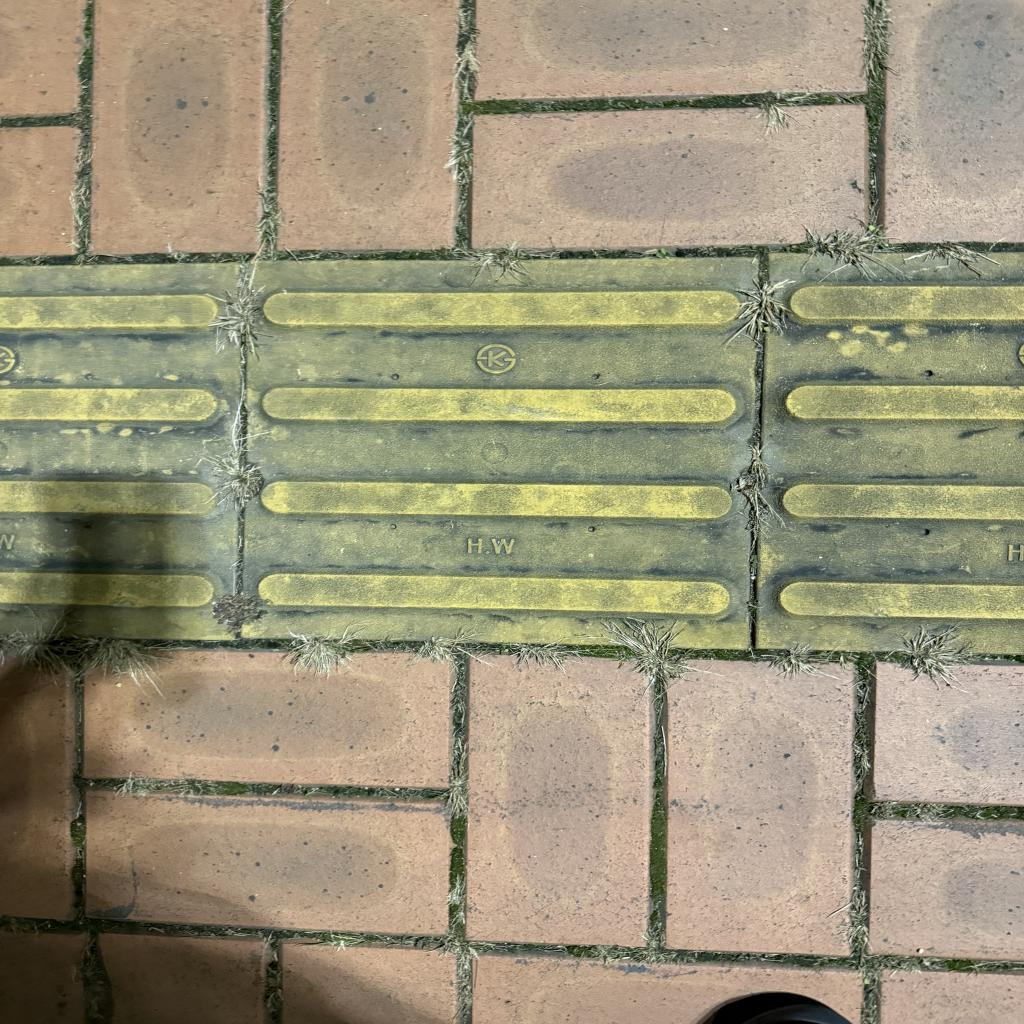Straight block normal: (243, 246, 756, 648)
